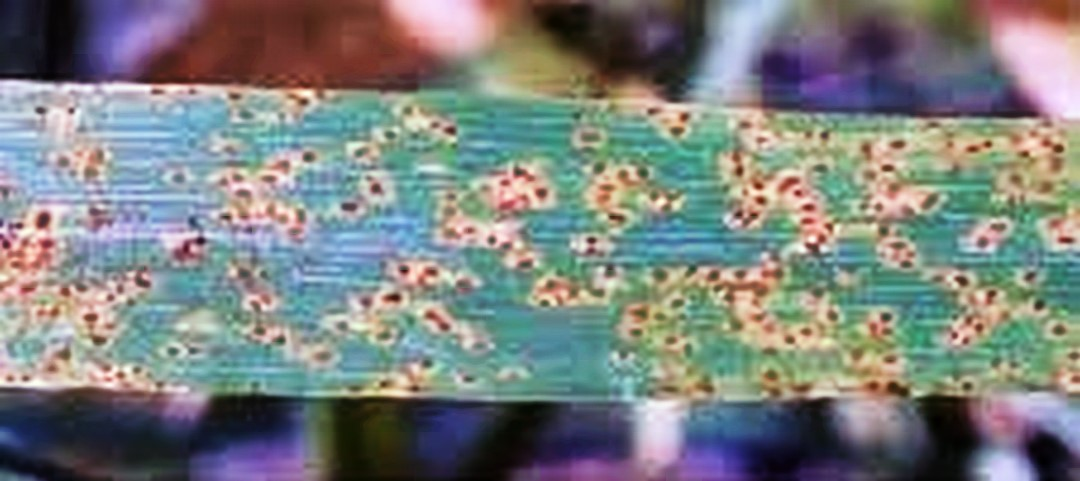Leaf Rust: (197, 93, 960, 401)
